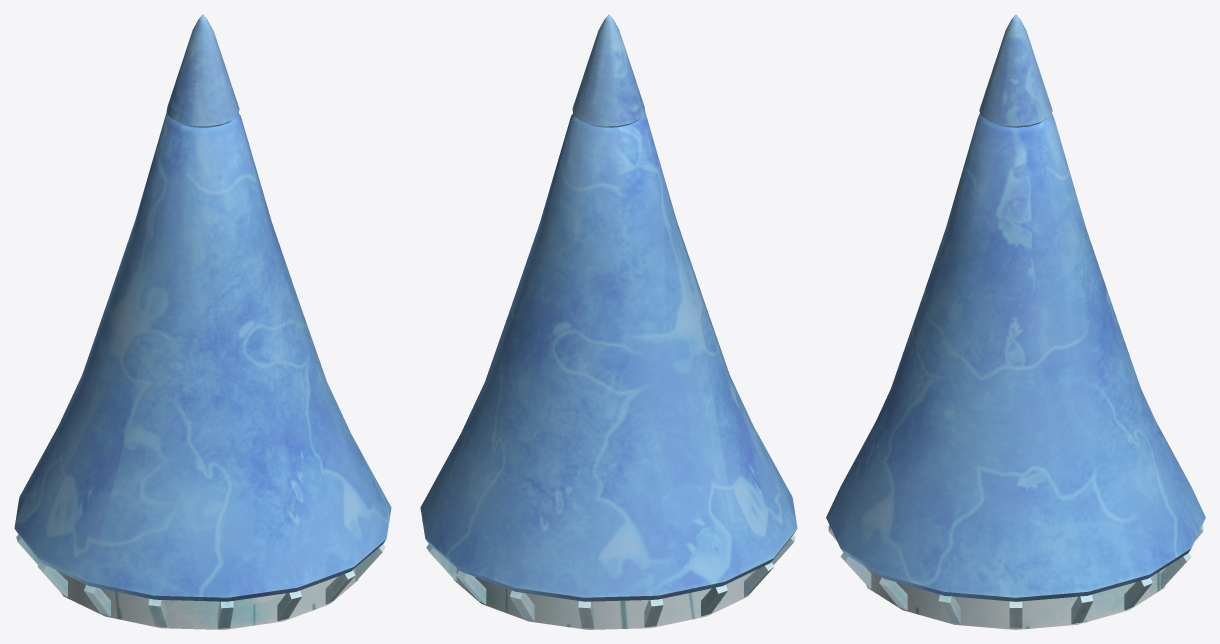
Rendered from sb_obj_outdoor023_IceCastle01_CircleWallTop00.fbx.
3 renders of one model, left to right at view 1: azimuth 30°, elevation 25°; view 2: azimuth 150°, elevation 25°; view 3: azimuth 270°, elevation 25°, orthographic.
Visible parts, largest first — view 1: sb_obj_outdoor023_IceCastle01_CircleWallTop00; view 2: sb_obj_outdoor023_IceCastle01_CircleWallTop00; view 3: sb_obj_outdoor023_IceCastle01_CircleWallTop00.
Part boxes in pixels (x1=…): sb_obj_outdoor023_IceCastle01_CircleWallTop00: x1=14, y1=14, x2=391, y2=629; sb_obj_outdoor023_IceCastle01_CircleWallTop00: x1=420, y1=14, x2=797, y2=629; sb_obj_outdoor023_IceCastle01_CircleWallTop00: x1=826, y1=14, x2=1205, y2=629.
Size of the model in its own units: 3.72 by 5.92 by 3.72.
